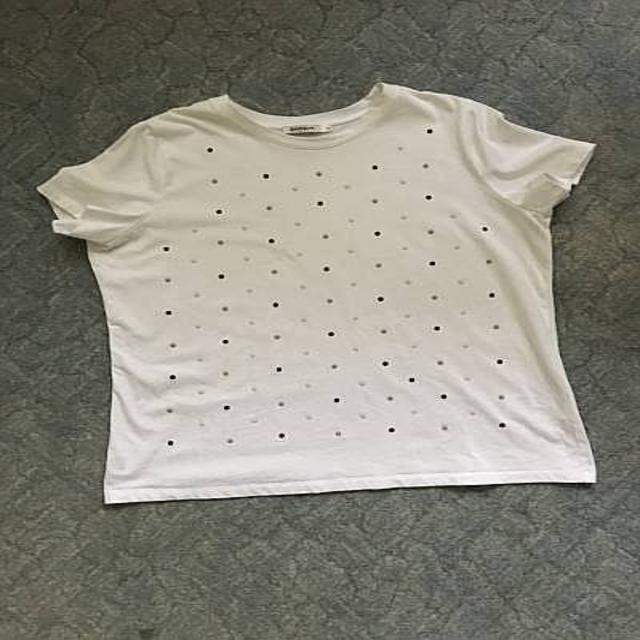T_SHIRT: (29, 74, 622, 510)
